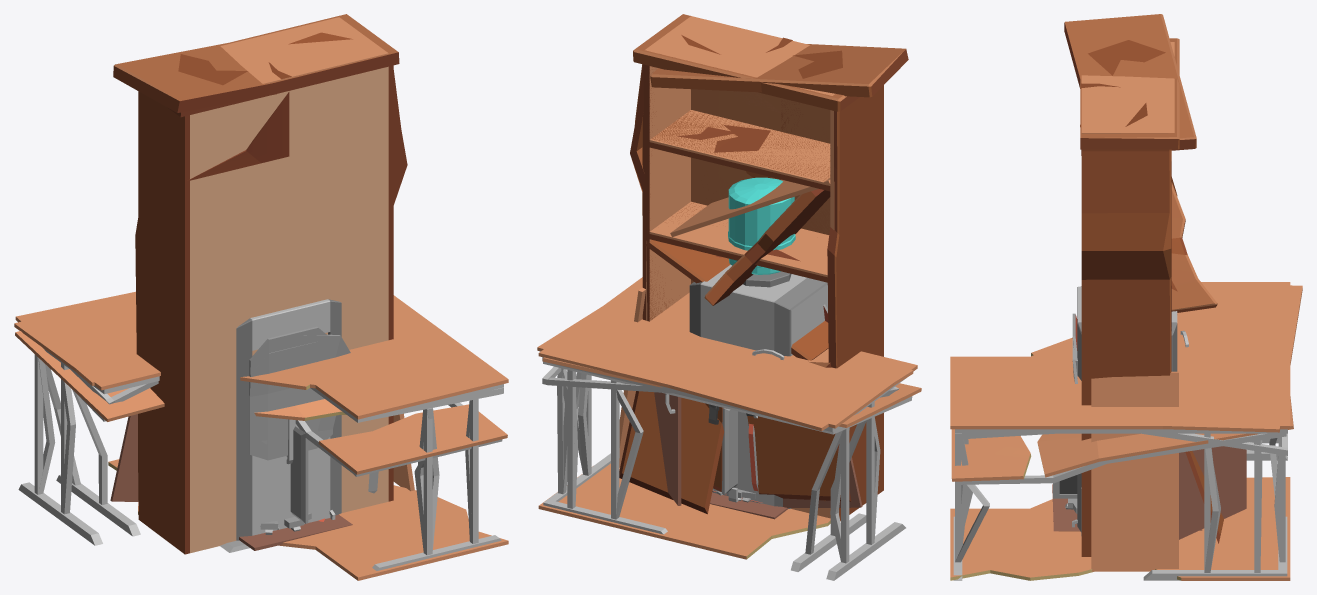
The model's file is FurnitureSet2.fbx.
The picture shows the model from 3 angles, left to right: view 1: azimuth 30°, elevation 25°; view 2: azimuth 150°, elevation 25°; view 3: azimuth 270°, elevation 25°; orthographic projection. The views are drawn at different scales.
Visible parts, largest first — view 1: OfficeCommode1.5, OfficeCommode1.4, OfficeCommode1.1, TableOffice1.5, OfficeCommode1.2, TableOffice1.2, TableOffice1.3, Culler1.1, TableOfficeDetail1, TableOffice1.4, СomputerСhair1.2, OfficeCommode1.3 (+5 smaller); view 2: OfficeCommode1.2, OfficeCommode1.1, OfficeCommode1.4, TableOffice1.2, TableOffice1.3, OfficeCommode1.5, Culler1.1, OfficeCommode1.3, TableOfficeDetail1, TableOffice1.5, TableOffice1.4, TableOffice1.1 (+2 smaller); view 3: TableOffice1.2, OfficeCommode1.4, OfficeCommode1.2, OfficeCommode1.3, TableOffice1.3, TableOfficeDetail1, TableOffice1.5, OfficeCommode1.1, OfficeCommode1.5, TableOffice1.4, Culler1.1, OfficeCommodeDetail1 (+1 smaller).
Part boxes in pixels (bbox=[...]): OfficeCommode1.5: bbox=[190, 17, 388, 553]; OfficeCommode1.4: bbox=[110, 67, 414, 552]; OfficeCommode1.1: bbox=[138, 14, 399, 554]; TableOffice1.5: bbox=[15, 331, 507, 570]; OfficeCommode1.2: bbox=[113, 43, 393, 554]; TableOffice1.2: bbox=[14, 295, 508, 550]; TableOffice1.3: bbox=[15, 291, 503, 550]; Culler1.1: bbox=[236, 299, 341, 540]; TableOfficeDetail1: bbox=[108, 459, 508, 580]; TableOffice1.4: bbox=[43, 348, 503, 555]; СomputerСhair1.2: bbox=[249, 341, 332, 519]; OfficeCommode1.3: bbox=[186, 70, 407, 204]; OfficeCommode1.2: bbox=[642, 44, 908, 521]; OfficeCommode1.1: bbox=[633, 14, 883, 501]; OfficeCommode1.4: bbox=[619, 66, 862, 507]; TableOffice1.2: bbox=[538, 277, 898, 428]; TableOffice1.3: bbox=[537, 284, 913, 563]; OfficeCommode1.5: bbox=[645, 16, 835, 518]; Culler1.1: bbox=[689, 177, 827, 508]; OfficeCommode1.3: bbox=[619, 64, 830, 514]; TableOfficeDetail1: bbox=[538, 463, 830, 559]; TableOffice1.5: bbox=[542, 357, 921, 580]; TableOffice1.4: bbox=[542, 366, 905, 571]; TableOffice1.1: bbox=[540, 293, 917, 427]; TableOffice1.2: bbox=[950, 282, 1290, 508]; OfficeCommode1.4: bbox=[1091, 332, 1246, 571]; OfficeCommode1.2: bbox=[1064, 14, 1196, 556]; OfficeCommode1.3: bbox=[1080, 125, 1223, 543]; TableOffice1.3: bbox=[955, 283, 1302, 572]; TableOfficeDetail1: bbox=[950, 477, 1290, 580]; TableOffice1.5: bbox=[951, 396, 1293, 580]; OfficeCommode1.1: bbox=[1080, 38, 1179, 556]; OfficeCommode1.5: bbox=[1081, 42, 1188, 371]; TableOffice1.4: bbox=[955, 429, 1287, 572]; Culler1.1: bbox=[1077, 286, 1177, 531]; OfficeCommodeDetail1: bbox=[1052, 484, 1202, 531].
Size of the model in its own units: 297 by 411 by 296.
